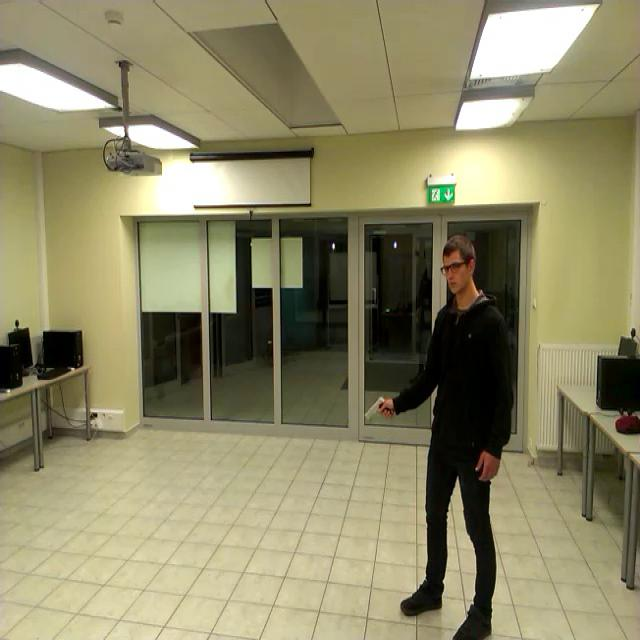handgun: (354, 383, 398, 435)
